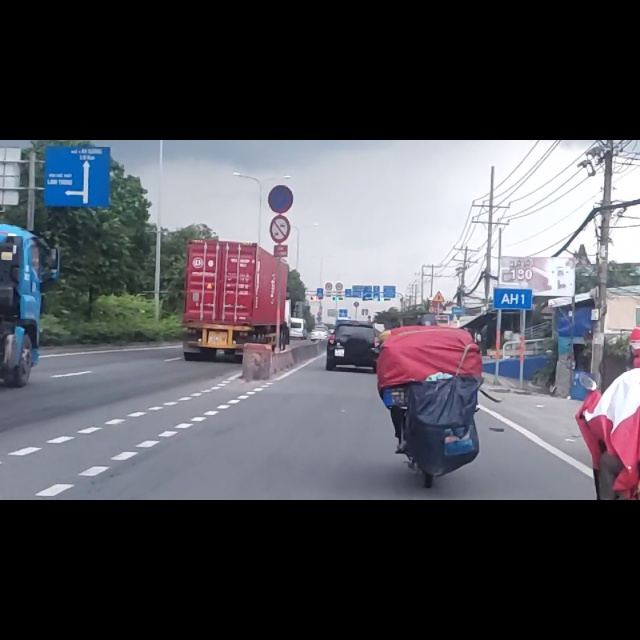bien_hieu_lenh: (267, 78, 294, 130), (269, 132, 292, 180)
